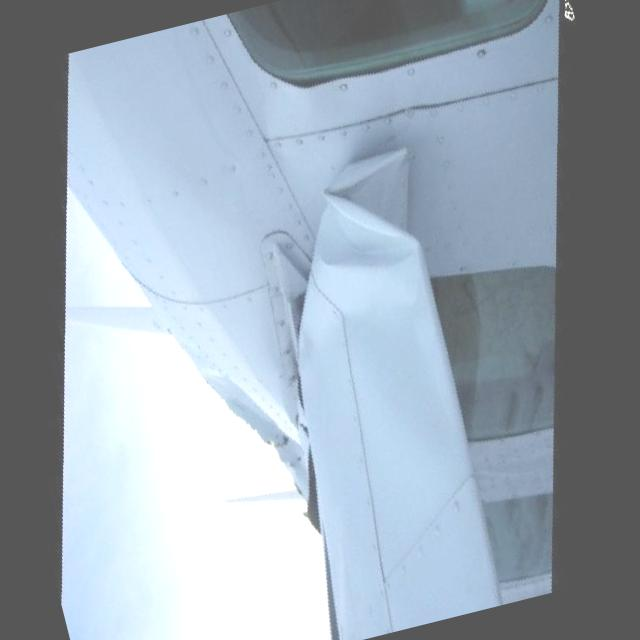dent: (298, 142, 437, 295)
